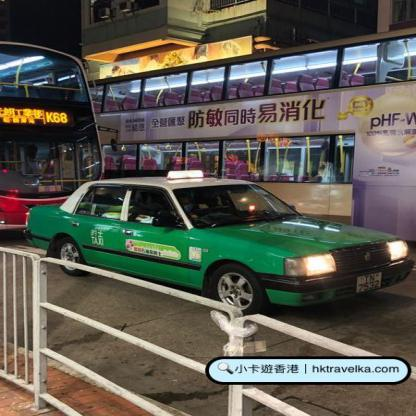taxi: (20, 165, 416, 314)
